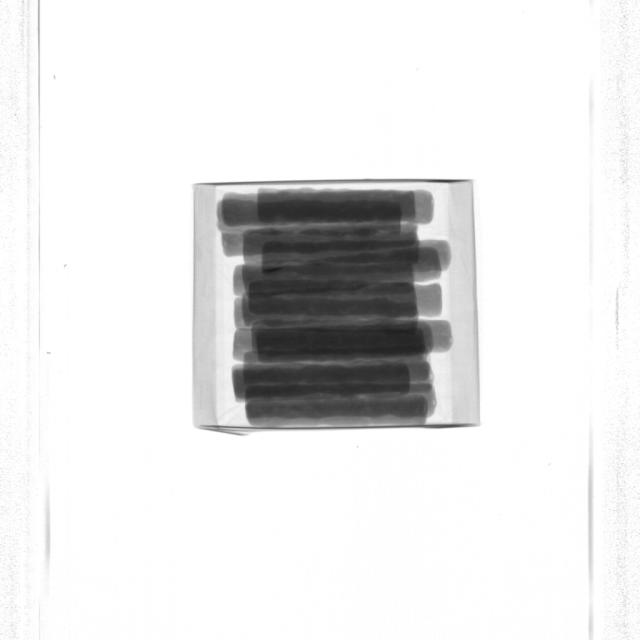ym: (263, 268, 284, 274)
